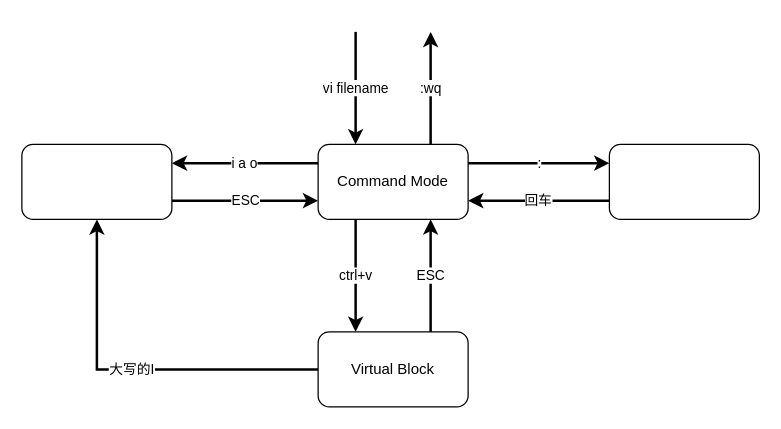
Image size: 781x429. Some labels were removed from this diagram. The centre of each missing label's shape, as x and y in pixels:
Insert Mode: (96,181)
Last Line Mode: (683,181)
